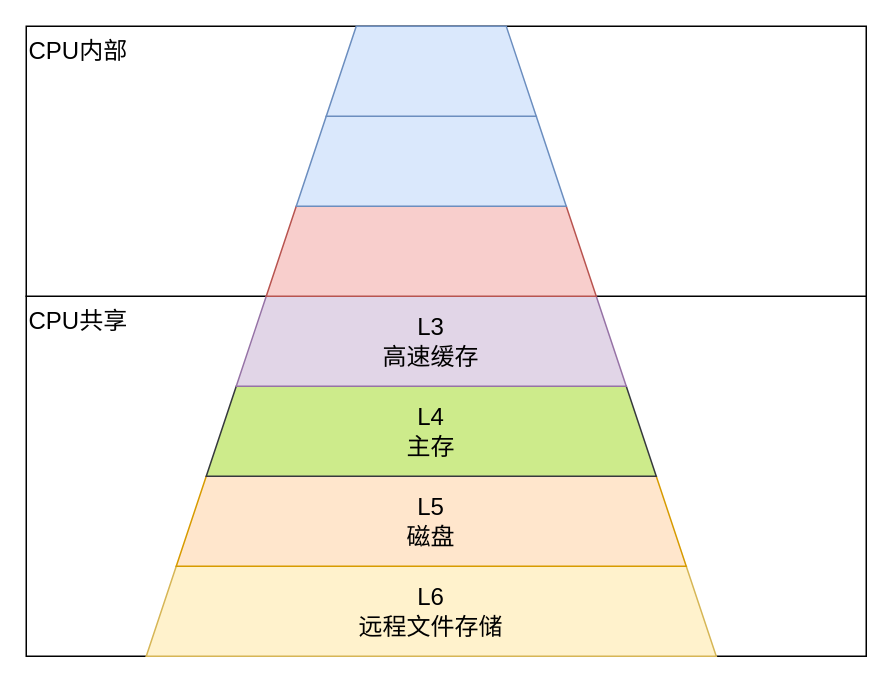
Image size: 893x683. Some labels were removed from this diagram. Each missing label, with the centre of its shape:
"L0 寄存器" belongs at (x=430, y=70).
"L1 高速缓存" belongs at (x=430, y=160).
"L2 高速缓存" belongs at (x=430, y=250).
